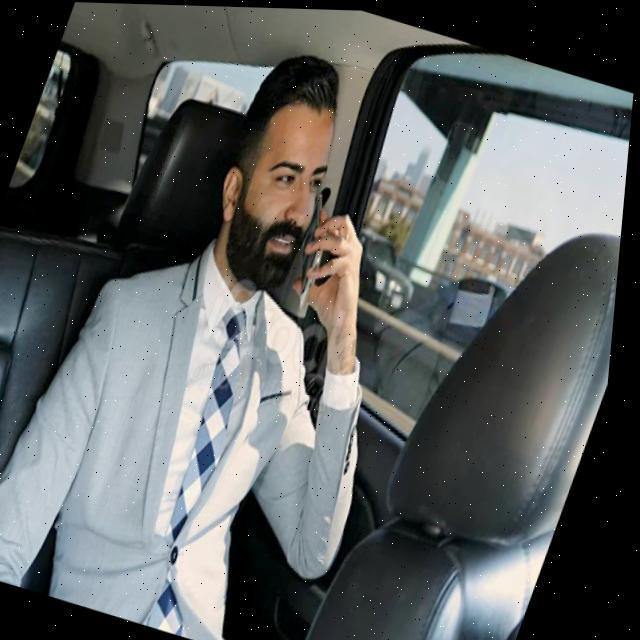PhoneCall: (276, 190, 344, 313)
